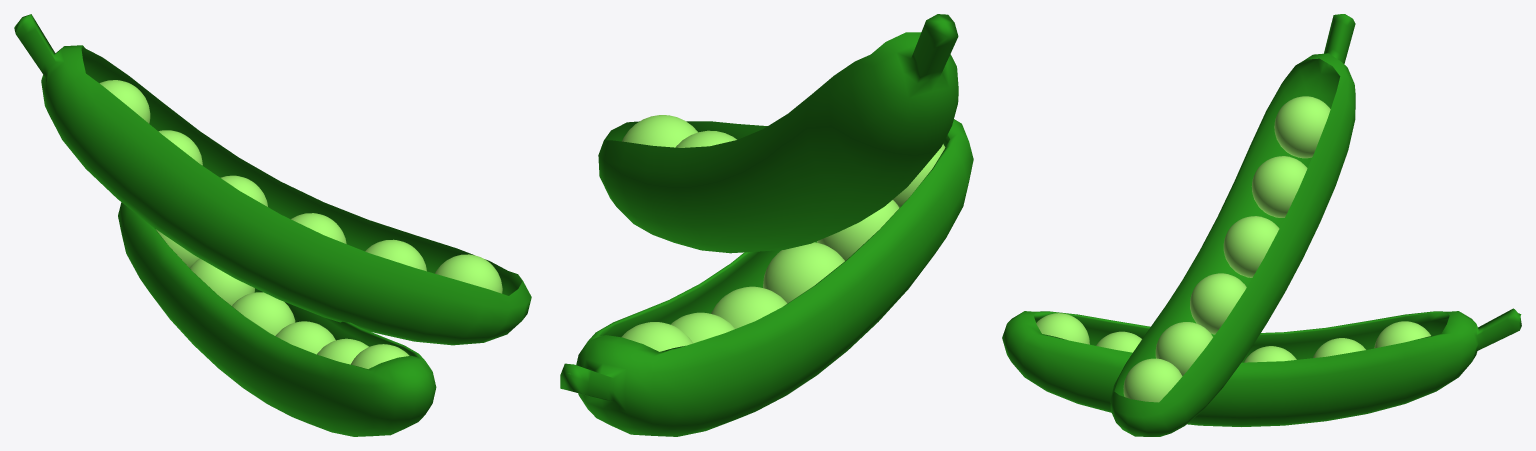
File: Green_Peas.glb
The picture shows the model from 3 angles, left to right: view 1: azimuth 30°, elevation 25°; view 2: azimuth 150°, elevation 25°; view 3: azimuth 270°, elevation 25°; orthographic projection. The views are drawn at different scales.
Visible parts, largest first — view 1: Cube.035, Cube.031, Sphere.009, Sphere.010; view 2: Cube.035, Cube.031, Sphere.009, Sphere.010; view 3: Cube.031, Cube.035, Sphere.010, Sphere.009.
Part boxes in pixels (bbox=[...]): Cube.035: bbox=[14, 14, 531, 345]; Cube.031: bbox=[118, 202, 436, 436]; Sphere.009: bbox=[155, 229, 409, 368]; Sphere.010: bbox=[99, 80, 502, 293]; Cube.035: bbox=[598, 14, 958, 253]; Cube.031: bbox=[560, 119, 973, 436]; Sphere.009: bbox=[621, 144, 945, 351]; Sphere.010: bbox=[622, 115, 736, 147]; Cube.031: bbox=[1002, 308, 1521, 426]; Cube.035: bbox=[1110, 14, 1355, 436]; Sphere.010: bbox=[1123, 96, 1330, 402]; Sphere.009: bbox=[1036, 313, 1430, 362].
Bounding box in the file's own units: 2.7 × 2.48 × 3.56.
